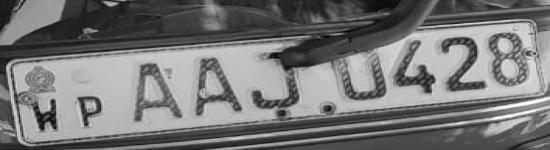0: (329, 42, 389, 104)
2: (440, 32, 488, 95)
4: (390, 36, 440, 96)
8: (488, 28, 532, 90)
A: (124, 59, 189, 126), (193, 51, 247, 117)
J: (248, 48, 305, 114)
P: (74, 92, 105, 130)
W: (29, 96, 64, 134)
